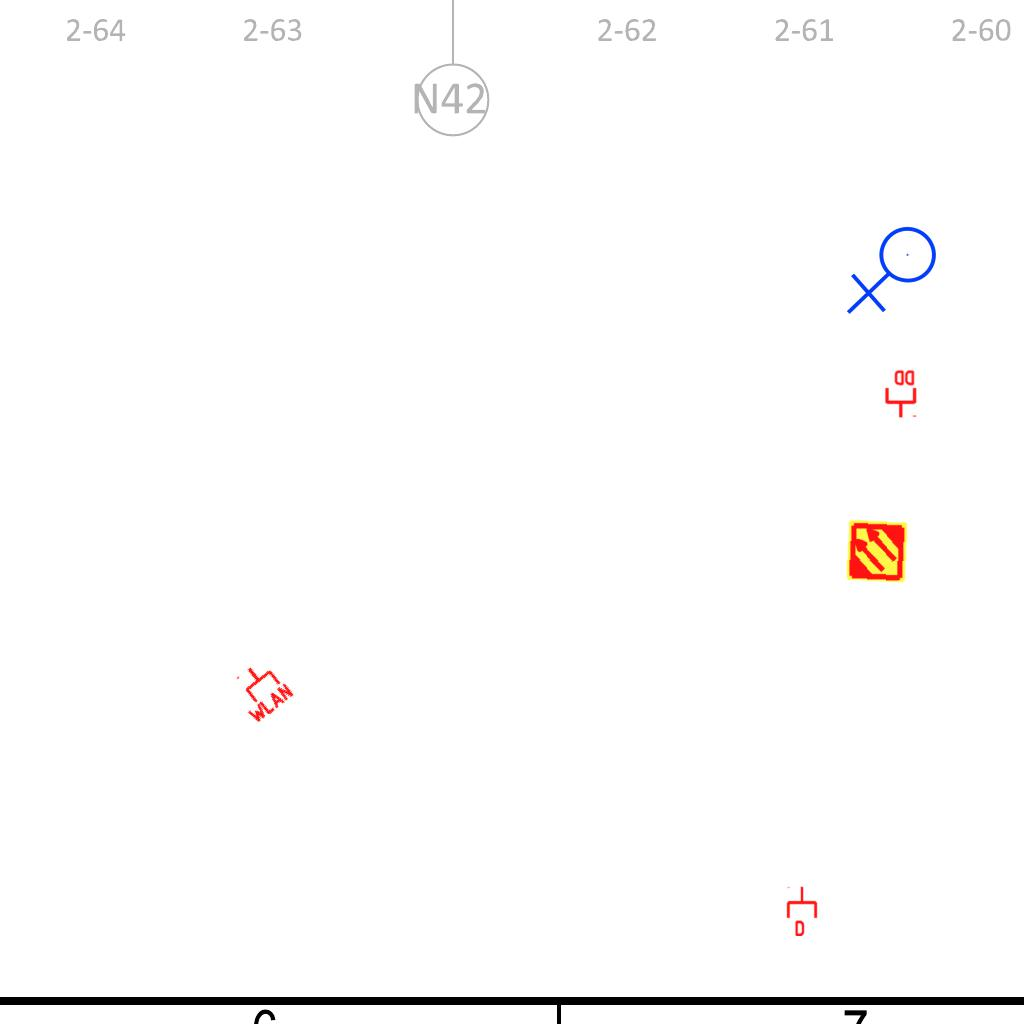ASR_Ansaugrauchmelder: (844, 518, 910, 584)
Datenanschluss_einfach: (785, 886, 819, 936)
Datenanschluss_zweifach: (883, 368, 917, 419)
Elektroanschluss_allgemein_230V_Geraeteanschlussdose_230V: (846, 225, 945, 319)
WLAN: (223, 653, 297, 727)
